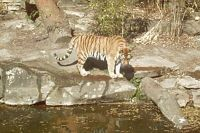Tigre: (71, 30, 140, 79)
